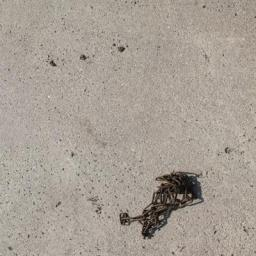FOD: (118, 169, 207, 242)
